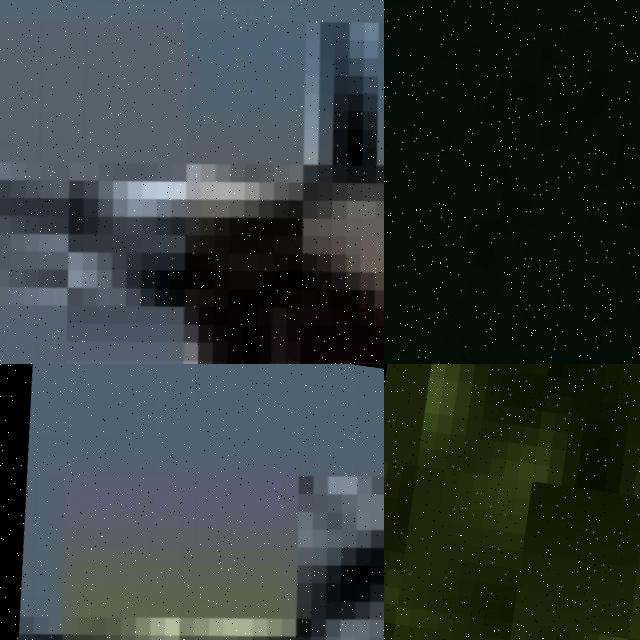drone: (0, 0, 384, 364), (0, 364, 384, 640)
